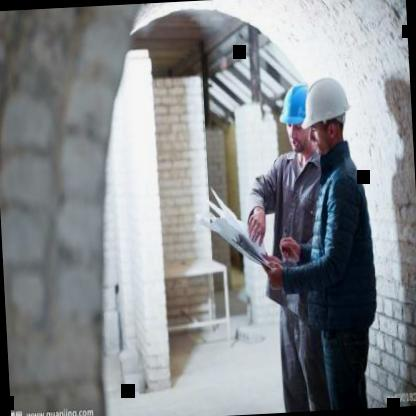helmet: (299, 74, 352, 158), (278, 81, 322, 158)
